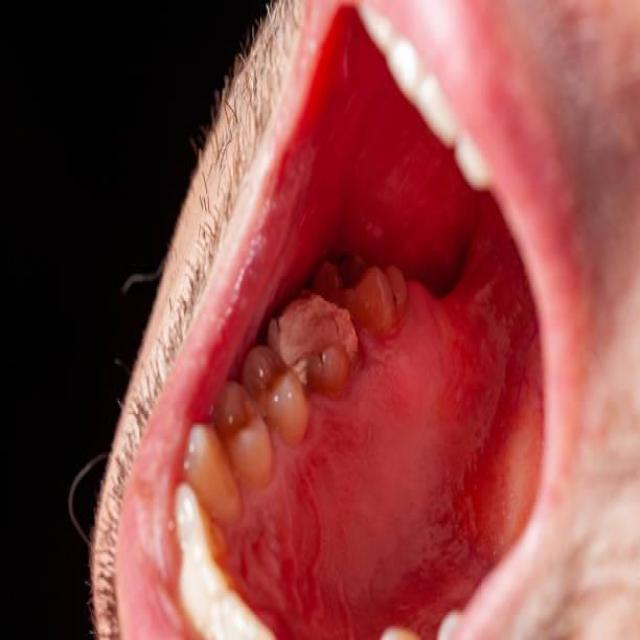caries: (276, 289, 356, 355)
